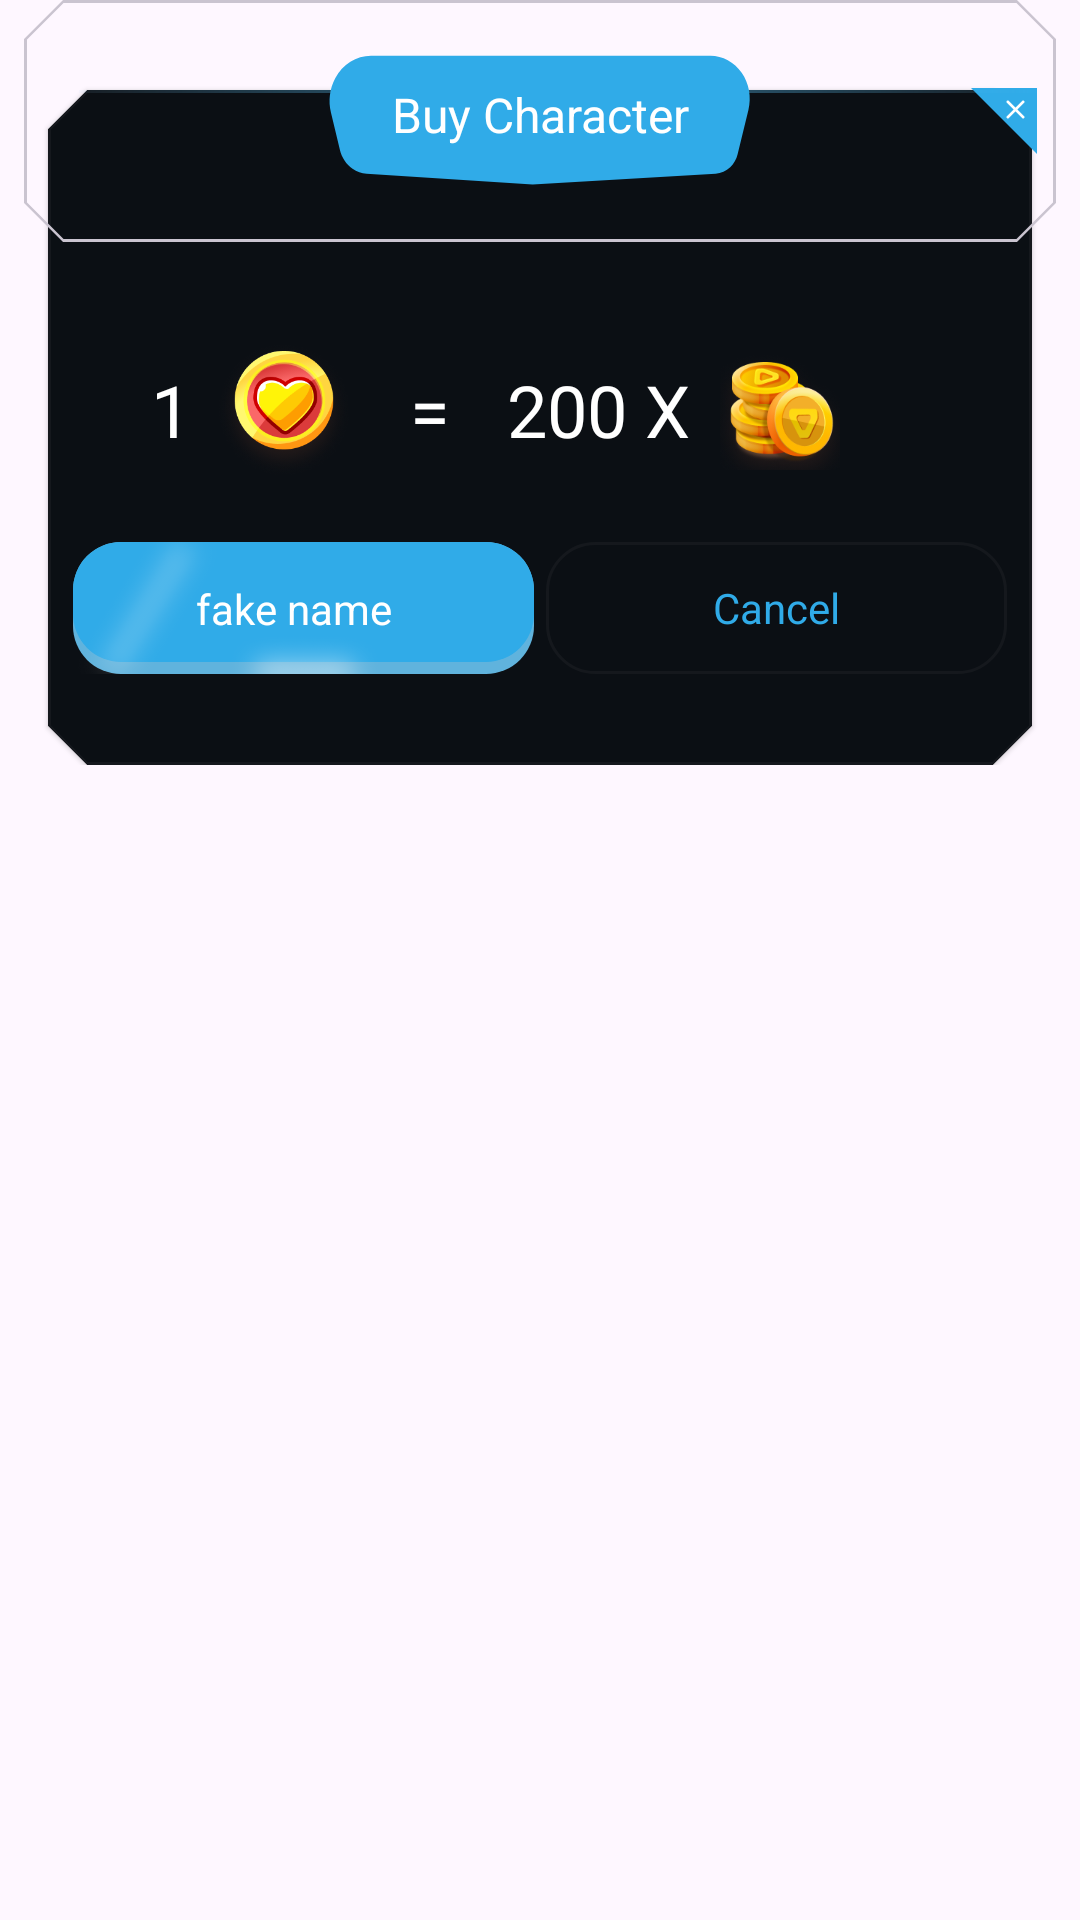

Icons on this 1080w x 1920h Android screen, each with the point to tap as (x=x, y=y):
coins: (x=782, y=411)
heart: (x=284, y=400)
